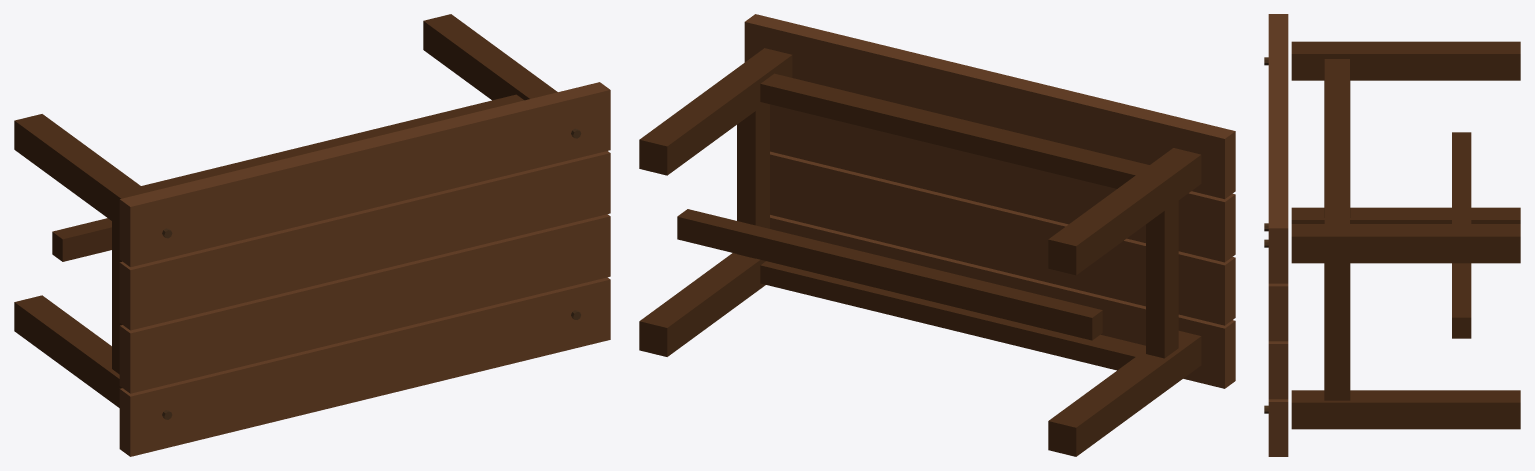
Rendered from SM_Izba_Table_1348_LOD0.obj.
3 views of the same model, side by side, from view 1: azimuth 30°, elevation 25°; view 2: azimuth 150°, elevation 25°; view 3: azimuth 270°, elevation 25° (orthographic). The views are drawn at different scales.
Parts seen in each view (by area): view 1: hand_planed_table_top, tapered_table_leg, table_rails, lower_stretcher, table_cross_rail; view 2: hand_planed_table_top, tapered_table_leg, table_rails, lower_stretcher, table_cross_rail; view 3: tapered_table_leg, hand_planed_table_top, table_rails, table_cross_rail, lower_stretcher.
Boxes of the visible parts, x1,y1,x2,y2 form: hand_planed_table_top: (119, 82, 610, 456); tapered_table_leg: (14, 14, 557, 407); table_rails: (141, 94, 524, 191); lower_stretcher: (52, 218, 111, 261); table_cross_rail: (112, 221, 122, 374); hand_planed_table_top: (744, 14, 1235, 388); tapered_table_leg: (639, 48, 1201, 456); table_rails: (760, 73, 1149, 370); lower_stretcher: (677, 209, 1102, 340); table_cross_rail: (737, 103, 1178, 358); tapered_table_leg: (1291, 41, 1520, 429); hand_planed_table_top: (1268, 14, 1288, 456); table_rails: (1324, 59, 1349, 223); table_cross_rail: (1324, 81, 1350, 400); lower_stretcher: (1452, 132, 1471, 338).
Size of the model in its own units: 1.55 by 0.771 by 0.783.
